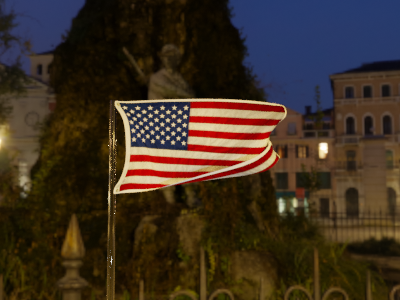America flag: (114, 99, 287, 193)
